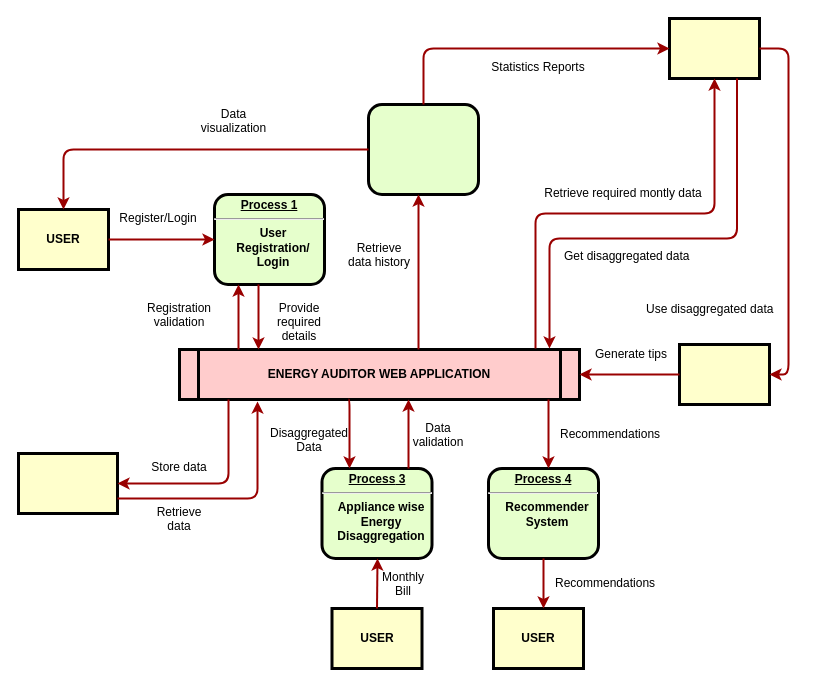
Image size: 815x687. Some labels were removed from this diagram. The centre of each missing label's shape, as x and y in pixels:
"DATABASE" belongs at [67,483].
"Predictiction model" belongs at [714,48].
"Process 2 Energy Analysis" belongs at [423,149].
"Recommender System" belongs at [724,374].
